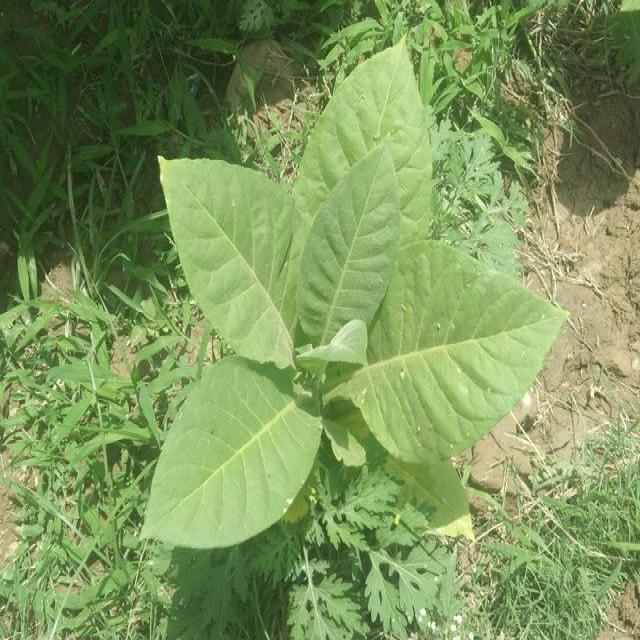crop: (153, 28, 545, 568)
